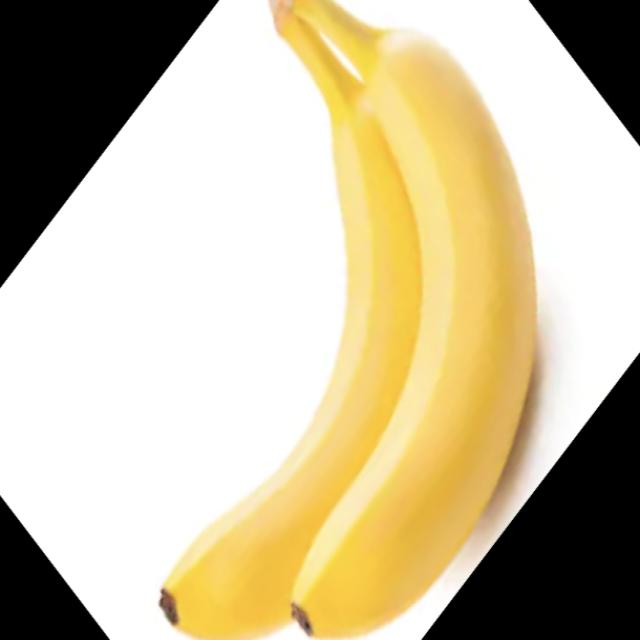god quality banana: (159, 0, 537, 639)
